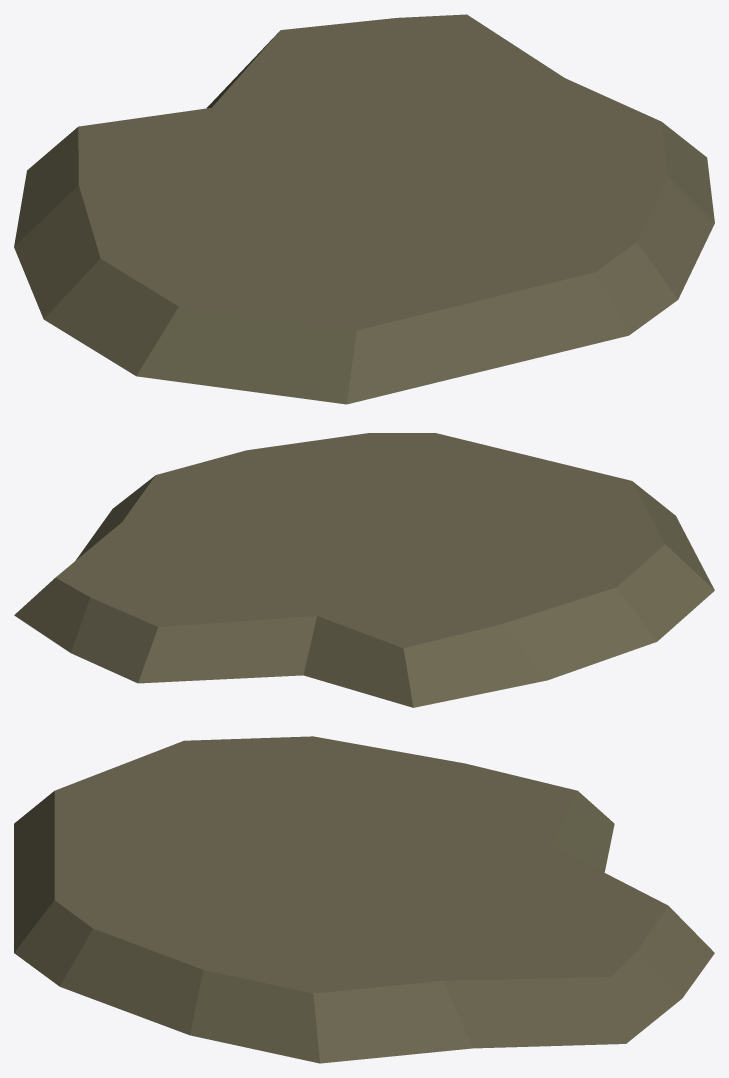
The model's file is stone_04.fbx.
The picture shows the model from 3 angles, top to bottom: view 1: azimuth 30°, elevation 25°; view 2: azimuth 150°, elevation 25°; view 3: azimuth 270°, elevation 25°; orthographic projection. The views are drawn at different scales.
Parts seen in each view (by area): view 1: Cube.030; view 2: Cube.030; view 3: Cube.030.
Part boxes in pixels (x1=…): Cube.030: x1=14, y1=14, x2=714, y2=404; Cube.030: x1=14, y1=433, x2=714, y2=707; Cube.030: x1=14, y1=736, x2=714, y2=1063.
Size of the model in its own units: 235 by 17.11 by 229.
